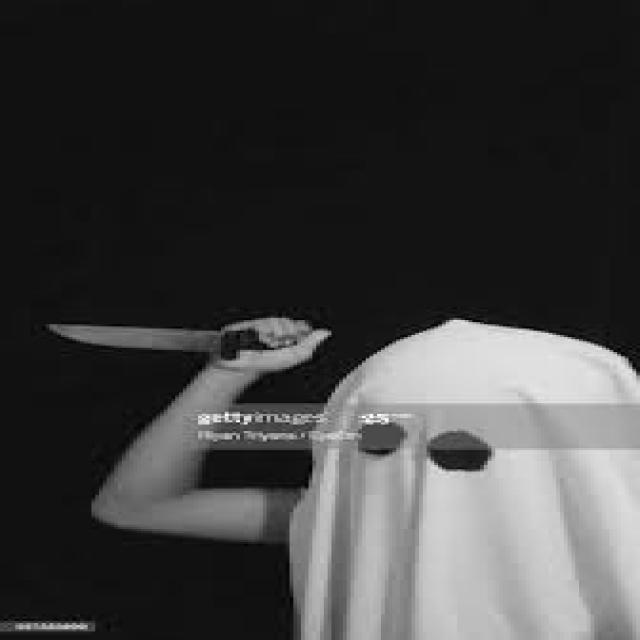faca: (45, 302, 335, 372)
